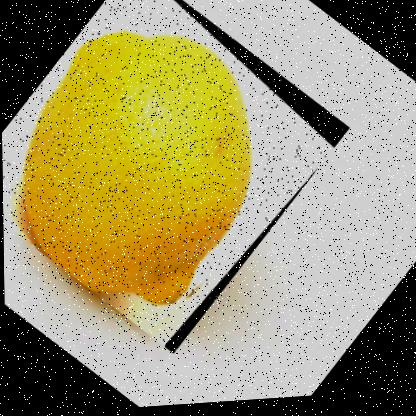lemon: (0, 0, 353, 367)
